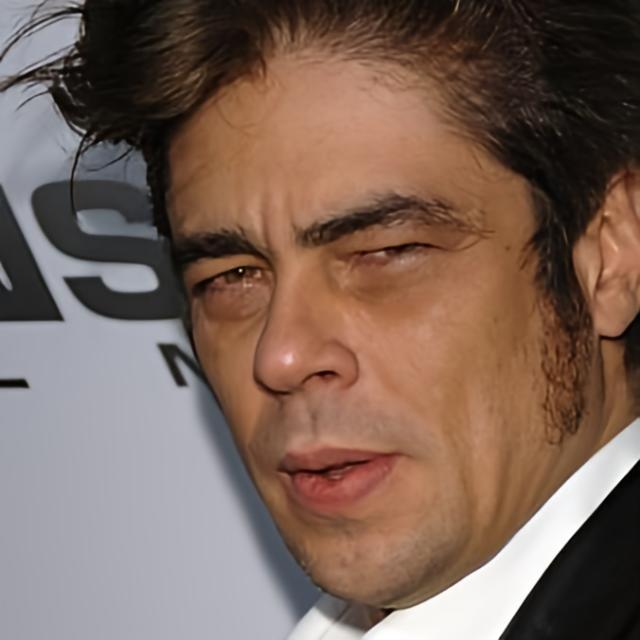anger: (172, 64, 564, 614)
